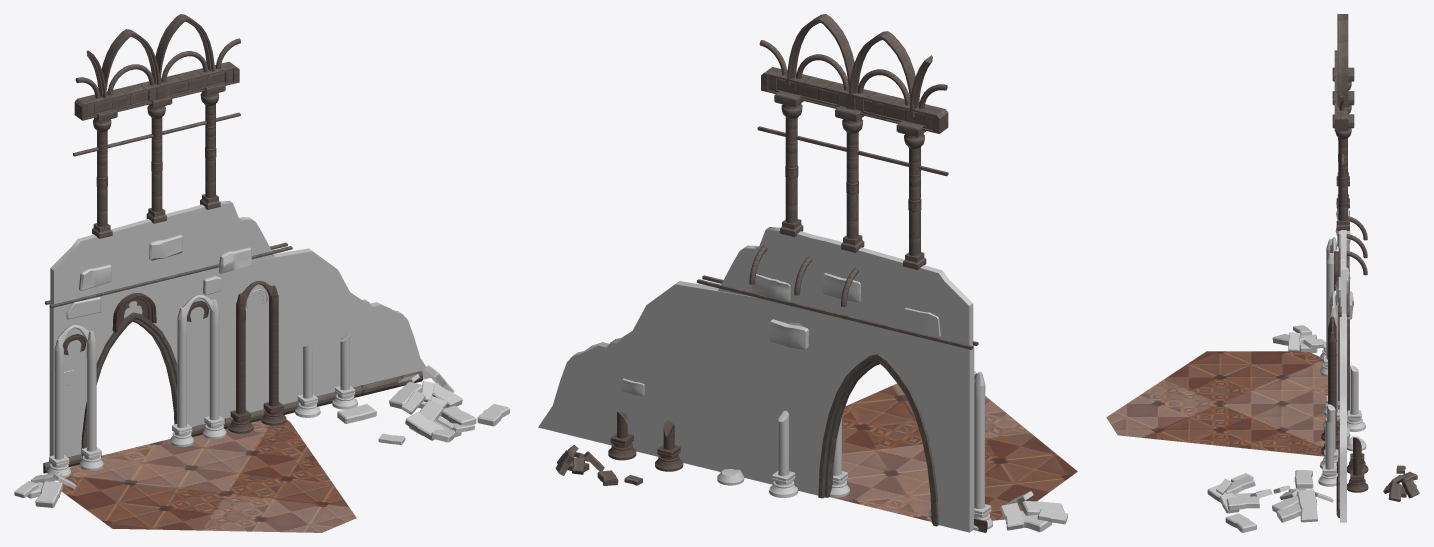
File: ArchitectureSet2.fbx
3 renders of one model, left to right at view 1: azimuth 30°, elevation 25°; view 2: azimuth 150°, elevation 25°; view 3: azimuth 270°, elevation 25°, orthographic. The views are drawn at different scales.
Parts seen in each view (by area): view 1: pPlane2, pasted__pasted__polySurface125, pasted__pasted__polySurface115, pasted__pasted__polySurface130, pasted__pasted__polySurface116, pasted__pasted__polySurface126, pasted__pasted__polySurface119, pasted__pasted__pCube78, pasted__pasted__pCube79, pasted__pasted__pCylinder35, pasted__pasted__pCylinder36, pasted__pasted__polySurface136 (+10 smaller); view 2: pasted__pasted__polySurface125, pasted__pasted__polySurface115, pPlane2, pasted__pasted__polySurface130, pasted__pasted__pCube78, pasted__pasted__pCube79, pasted__pasted__polySurface119, pasted__pasted__pCylinder35, pasted__pasted__polySurface136, pasted__pasted__pCylinder37, pasted__pasted__polySurface131, pasted__pasted__pCylinder36 (+8 smaller); view 3: pPlane2, pasted__pasted__polySurface125, pasted__pasted__pCylinder37, pasted__pasted__polySurface131, pasted__pasted__polySurface135, pasted__pasted__polySurface136, pasted__pasted__polySurface126, pasted__pasted__polySurface130, pCube112, pasted__pasted__polySurface119, pasted__pasted__polySurface133, pasted__pasted__polySurface115 (+3 smaller).
Boxes of the visible parts, x1,y1,x2,y2 form: pPlane2: (59, 419, 356, 532); pasted__pasted__polySurface125: (212, 248, 430, 418); pasted__pasted__polySurface115: (49, 269, 211, 457); pasted__pasted__polySurface130: (50, 200, 274, 304); pasted__pasted__polySurface116: (170, 327, 226, 446); pasted__pasted__polySurface126: (228, 313, 286, 433); pasted__pasted__polySurface119: (47, 356, 103, 477); pasted__pasted__pCube78: (74, 81, 161, 120); pasted__pasted__pCube79: (159, 61, 239, 98); pasted__pasted__pCylinder35: (151, 117, 162, 211); pasted__pasted__pCylinder36: (96, 131, 107, 226); pasted__pasted__polySurface136: (155, 14, 214, 84); pasted__pasted__polySurface125: (538, 281, 789, 484); pasted__pasted__polySurface115: (789, 306, 974, 532); pPlane2: (830, 383, 1077, 521); pasted__pasted__polySurface130: (718, 227, 973, 345); pasted__pasted__pCube78: (848, 89, 948, 133); pasted__pasted__pCube79: (761, 67, 851, 109); pasted__pasted__polySurface119: (929, 403, 992, 530); pasted__pasted__pCylinder35: (846, 132, 858, 239); pasted__pasted__polySurface136: (787, 14, 854, 94); pasted__pasted__pCylinder37: (785, 117, 798, 223); pasted__pasted__polySurface131: (769, 410, 798, 497); pasted__pasted__pCylinder36: (908, 147, 921, 256); pPlane2: (1106, 351, 1327, 456); pasted__pasted__polySurface125: (1340, 313, 1346, 522); pasted__pasted__pCylinder37: (1338, 138, 1347, 221); pasted__pasted__polySurface131: (1347, 365, 1365, 431); pasted__pasted__polySurface135: (1318, 422, 1337, 486); pasted__pasted__polySurface136: (1337, 42, 1348, 107); pasted__pasted__polySurface126: (1321, 356, 1339, 454); pasted__pasted__polySurface130: (1340, 230, 1346, 313); pCube112: (1297, 489, 1317, 522); pasted__pasted__polySurface119: (1320, 276, 1334, 376); pasted__pasted__polySurface133: (1347, 455, 1368, 492); pasted__pasted__polySurface115: (1338, 270, 1349, 414).
Bounding box in the file's own units: 1245 × 1099 × 825.
